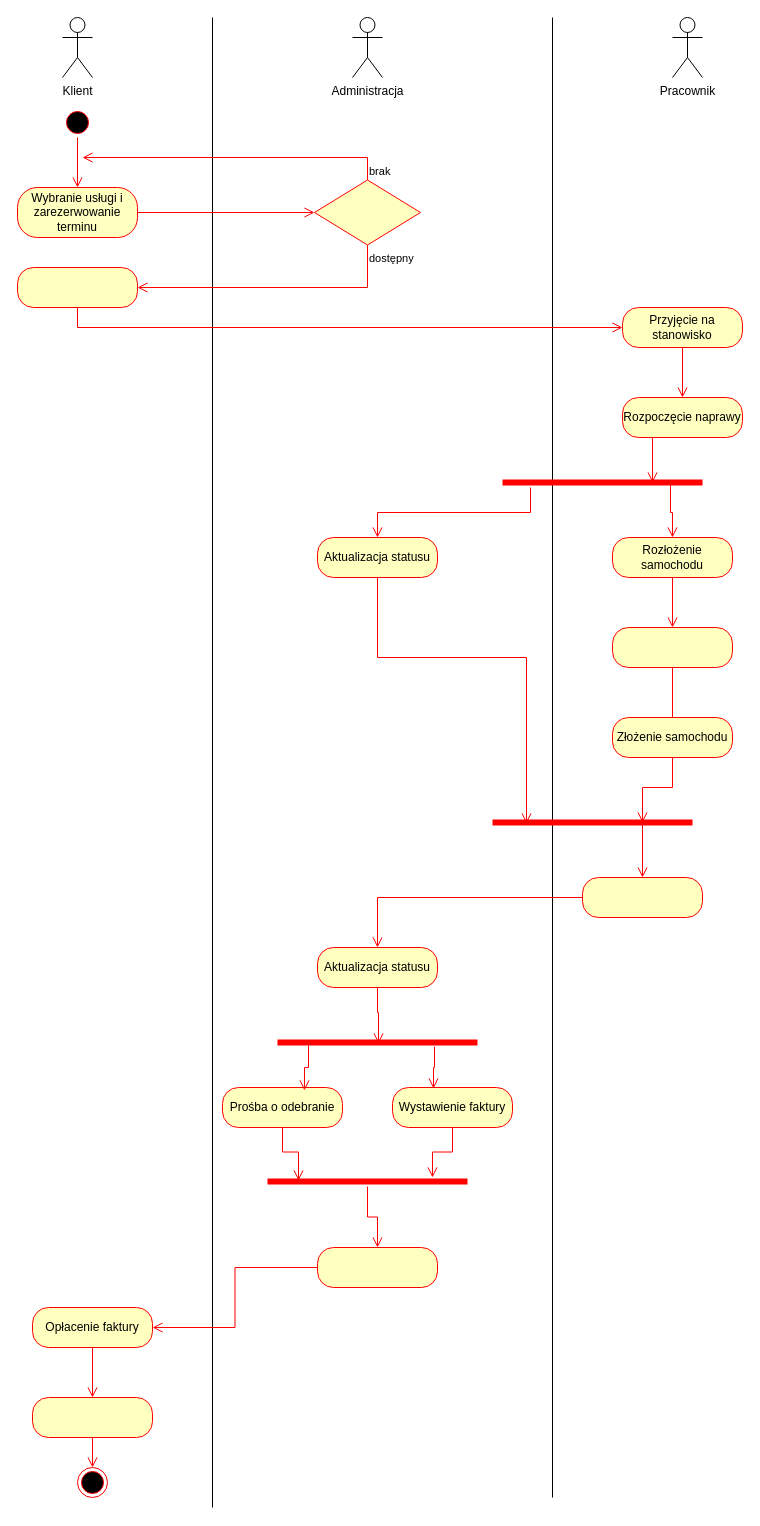
The diagram is 760 pixels wide and 1526 high, and some of its shapes have lost their labels. The shapes that lost their labels are listed below. From the top down, each one's box as (x1, y1, x2, y2) in pixels, then its label:
(314, 179, 420, 245): Sprawdzenie dostępności
(16, 266, 138, 308): Przywiezienie samochodu
(612, 626, 732, 668): Wymiana zepsutej części
(582, 876, 702, 918): Zakończenie naprawy
(316, 1246, 438, 1288): Wydanie samochodu
(32, 1396, 152, 1438): Odebranie samochodu
